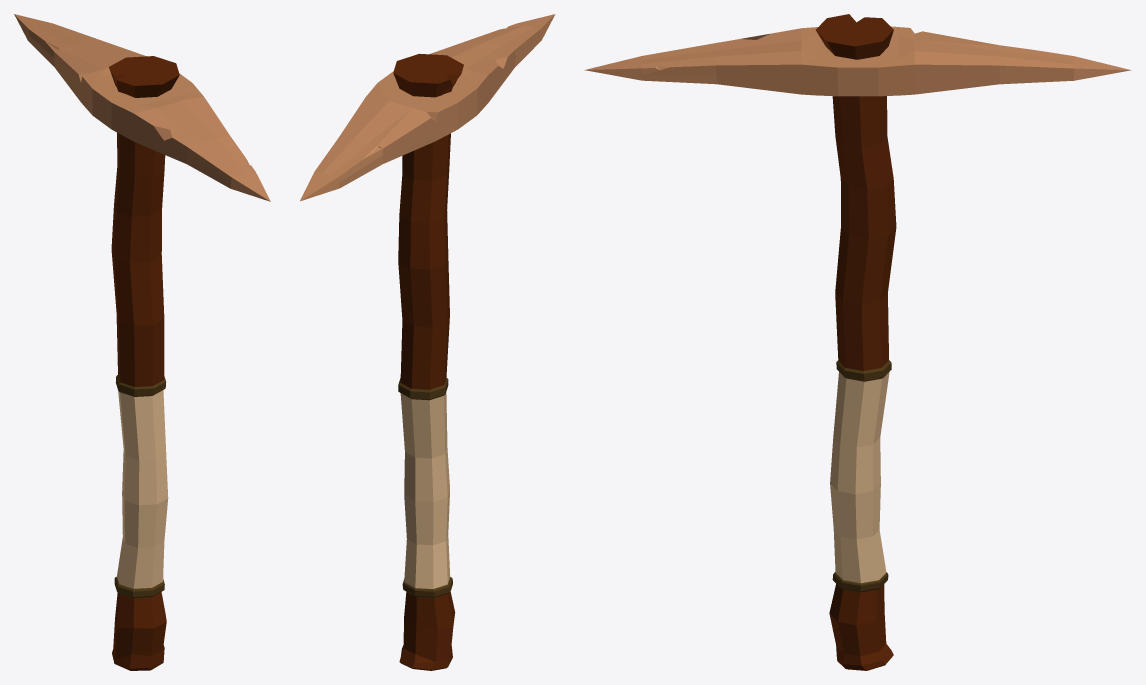
File: WoodPick.fbx
3 views of the same model, side by side, from view 1: azimuth 30°, elevation 25°; view 2: azimuth 150°, elevation 25°; view 3: azimuth 270°, elevation 25° (orthographic). The views are drawn at different scales.
Visible parts, largest first — view 1: Circle; view 2: Circle; view 3: Circle.
Boxes of the visible parts, box(x1,y1,x2,y2) form: Circle: box(14, 14, 270, 670); Circle: box(300, 14, 555, 670); Circle: box(584, 14, 1131, 670).
Size of the model in its own units: 0.1551 by 1.09 by 0.8529.
